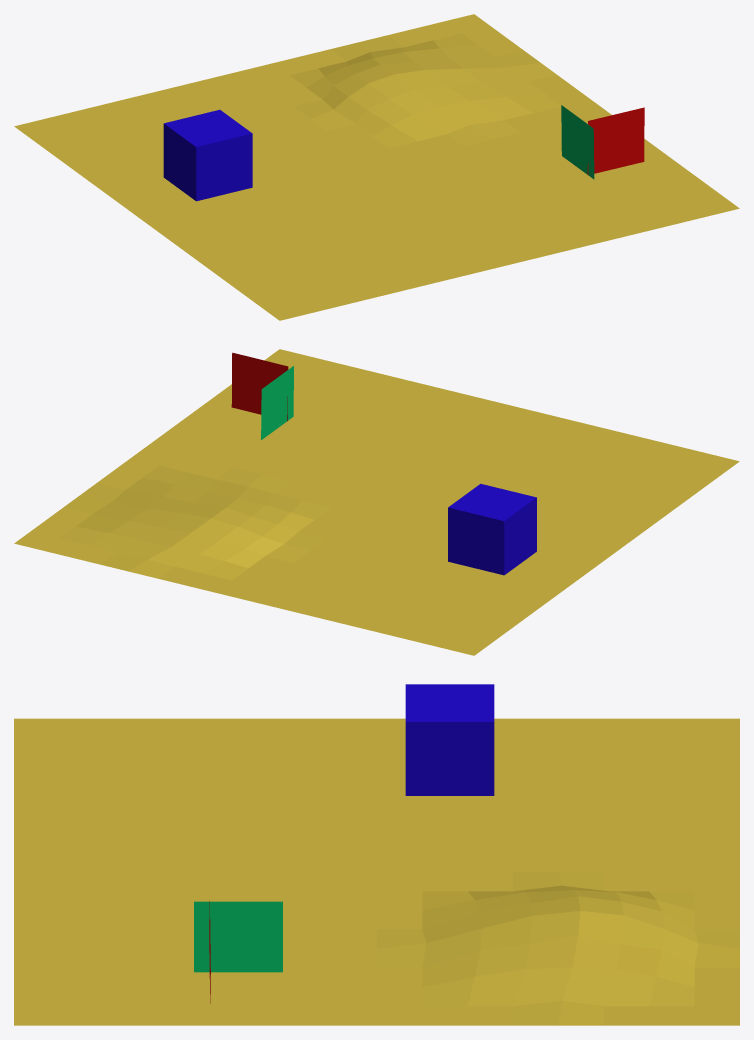
Rendered from empty2.obj.
3 views of the same model, one above another, from view 1: azimuth 30°, elevation 25°; view 2: azimuth 150°, elevation 25°; view 3: azimuth 270°, elevation 25° (orthographic). The views are drawn at different scales.
Visible parts, largest first — view 1: Plane, Cube_Cube.001, Plane.002, Plane.001; view 2: Plane, Cube_Cube.001, Plane.002, Plane.001; view 3: Plane, Cube_Cube.001, Plane.001.
Boxes of the visible parts, x1,y1,x2,y2 form: Plane: (14,14,739,320); Cube_Cube.001: (163,109,252,201); Plane.002: (587,107,644,174); Plane.001: (561,105,594,179); Plane: (14,349,739,655); Cube_Cube.001: (448,483,536,575); Plane.002: (231,352,288,421); Plane.001: (261,366,293,440); Plane: (14,718,739,1025); Cube_Cube.001: (405,684,494,795); Plane.001: (194,901,282,972).
Bounding box in the file's own units: 16.36 × 2.11 × 16.36.
